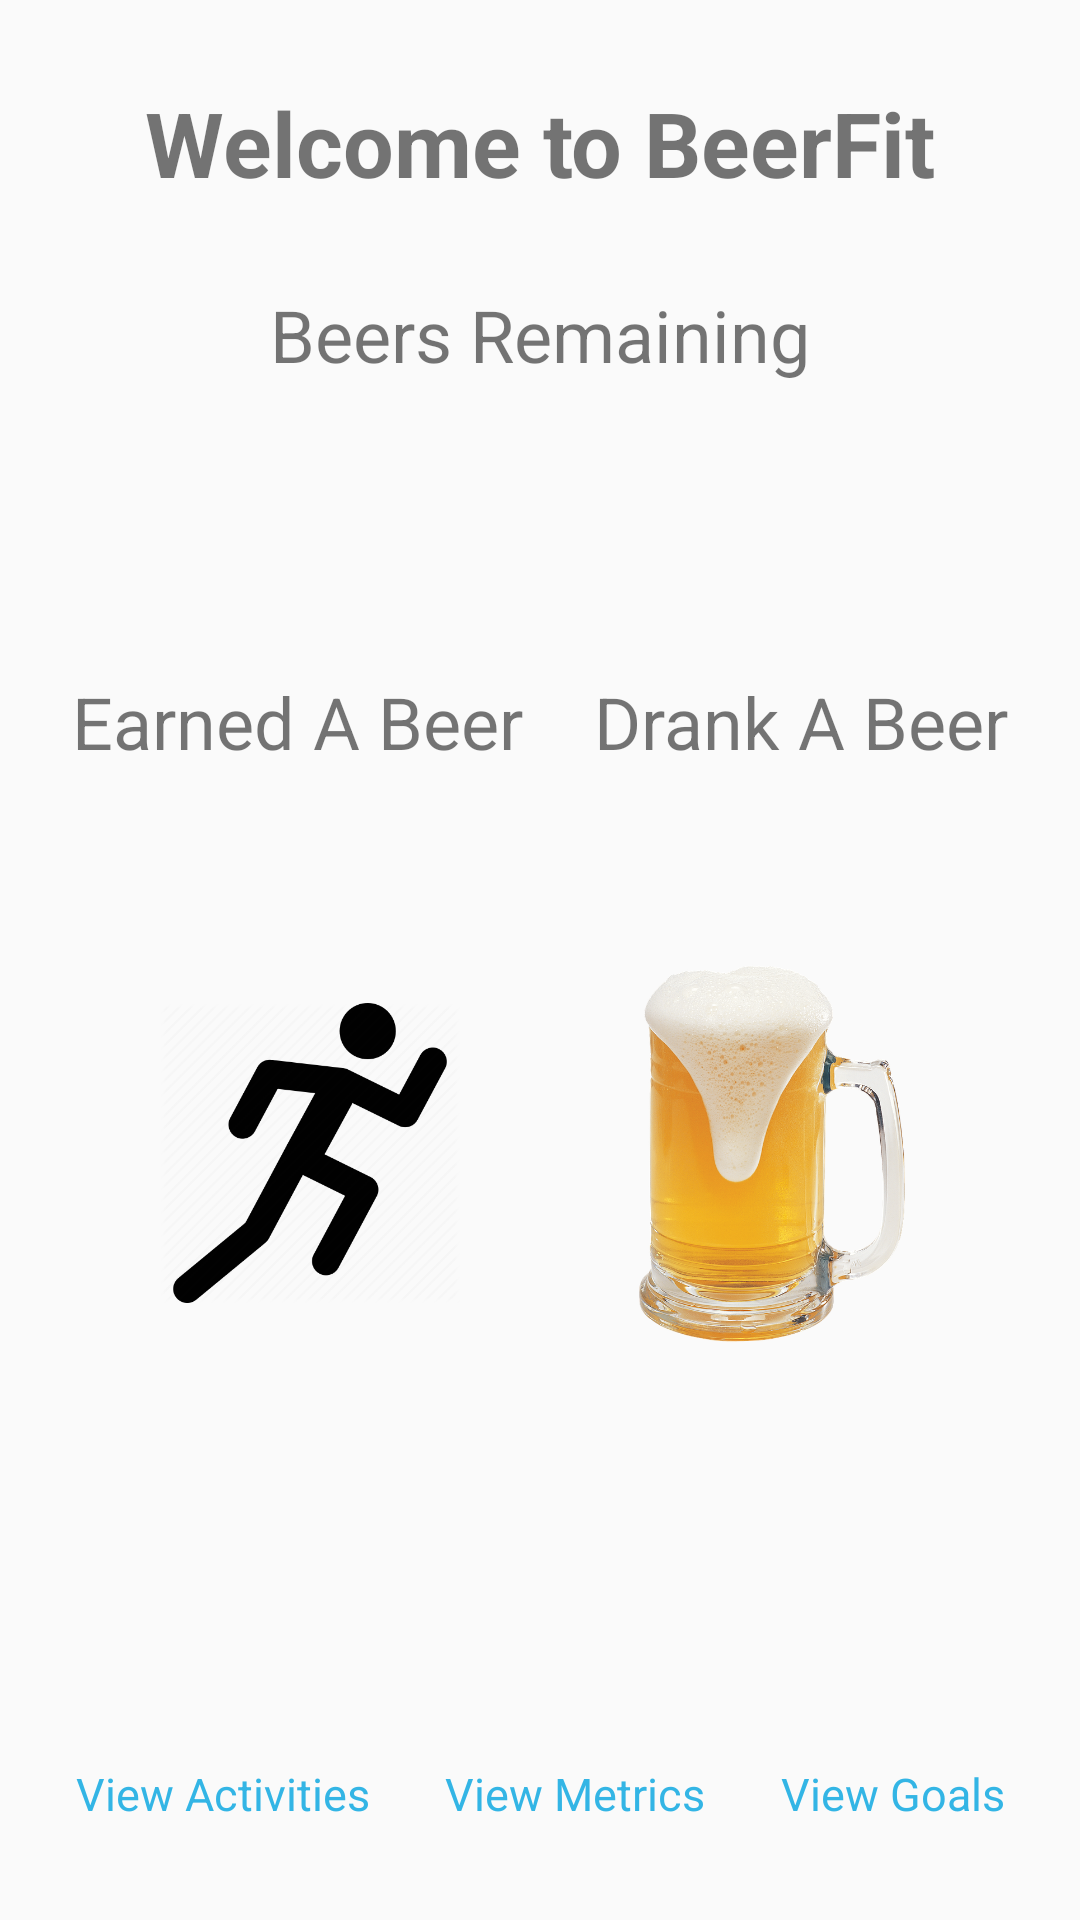

Where icons sit on this 1080px x 1920px app screen, as (x1, y1, x2, y2):
Exercised: (173, 1003, 447, 1303)
